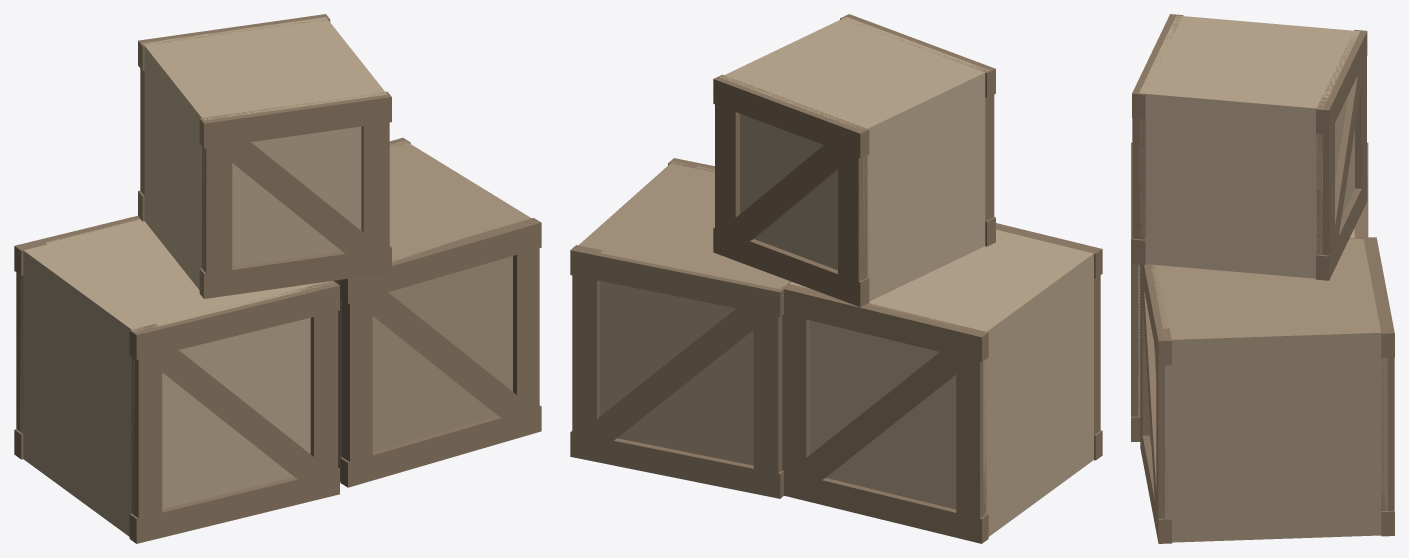
File: rail_crate_stack.glb
3 views of the same model, side by side, from view 1: azimuth 30°, elevation 25°; view 2: azimuth 150°, elevation 25°; view 3: azimuth 270°, elevation 25° (orthographic). The views are drawn at different scales.
Bounding box in the file's own units: 1.05 × 0.92 × 0.5895.
